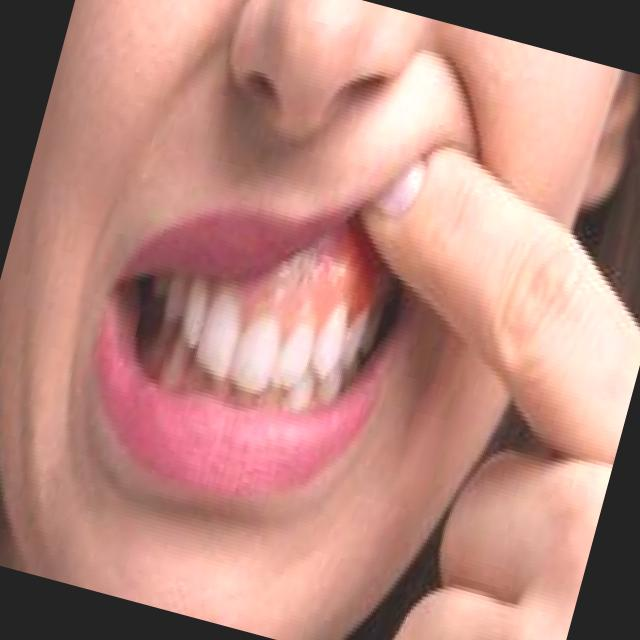abscess: (278, 212, 427, 354)
